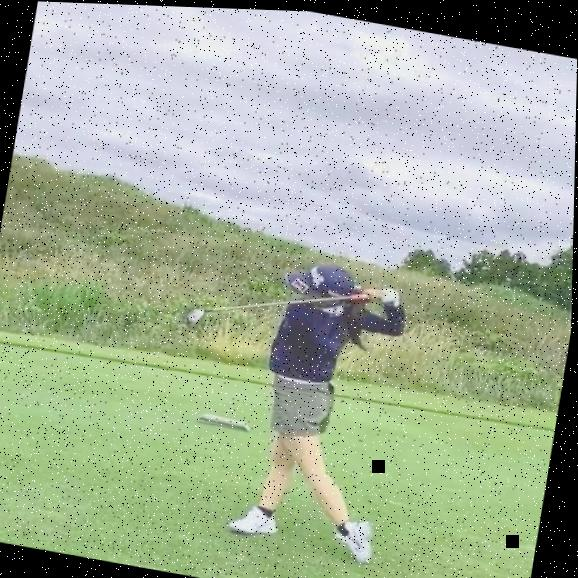ClubHead: (189, 305, 209, 325)
